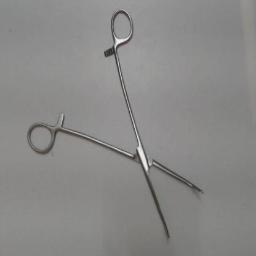Lahey Forceps: (22, 8, 206, 244)
